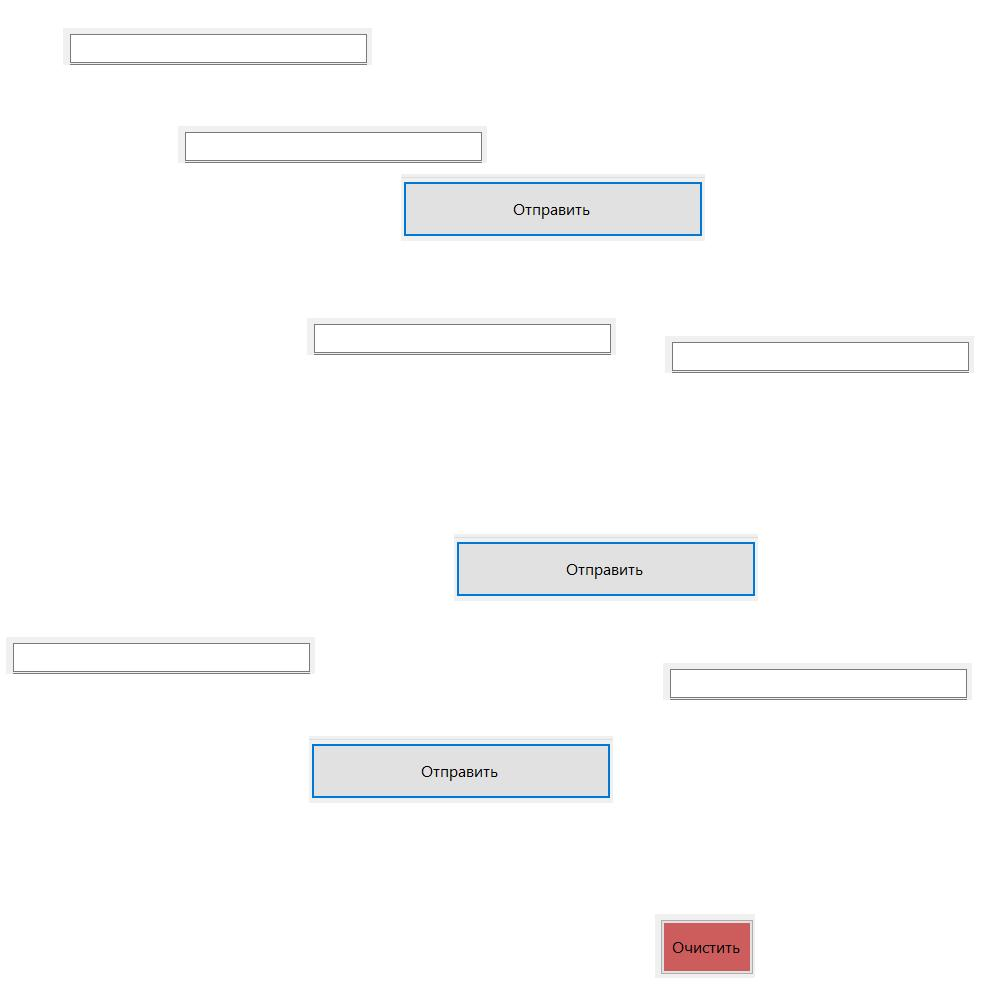Button: (309, 736, 613, 803), (454, 534, 758, 601), (401, 174, 705, 241), (655, 914, 755, 978)
EditText-: (63, 28, 372, 65), (307, 318, 616, 355), (663, 663, 972, 700), (6, 637, 315, 674), (178, 126, 487, 163), (665, 336, 974, 373)
